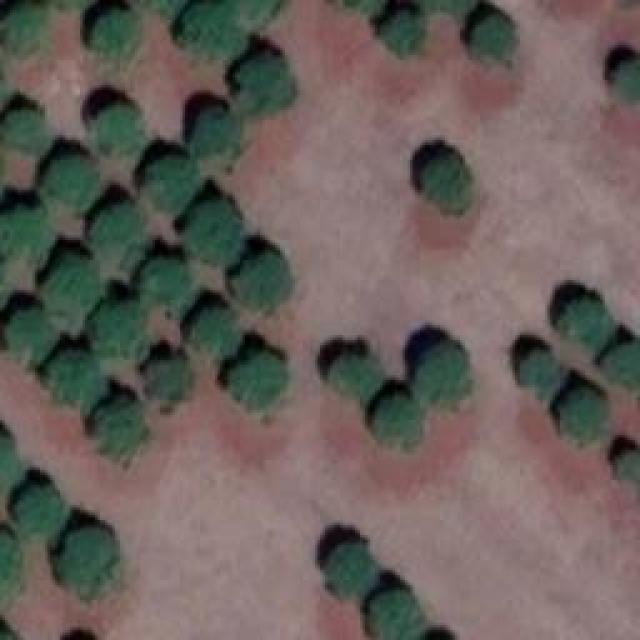Tree: (43, 258, 103, 331), (62, 530, 120, 598), (48, 353, 108, 406), (93, 205, 146, 265), (188, 203, 241, 263), (185, 3, 245, 56), (232, 253, 290, 306), (93, 303, 148, 358), (240, 58, 295, 113), (0, 207, 52, 264), (145, 158, 200, 211), (418, 345, 468, 403), (95, 400, 143, 460), (45, 158, 100, 208), (190, 108, 243, 158), (370, 590, 423, 640), (425, 153, 473, 208), (230, 355, 283, 403), (330, 540, 378, 593), (143, 260, 193, 310), (7, 310, 55, 360), (378, 395, 421, 448), (93, 105, 143, 150), (93, 10, 138, 58), (192, 313, 240, 356), (18, 488, 63, 533), (565, 303, 610, 348), (330, 358, 380, 398), (148, 357, 188, 405), (5, 110, 50, 150), (520, 353, 563, 393), (5, 5, 43, 50), (565, 390, 603, 435), (473, 18, 513, 58), (607, 345, 640, 390), (387, 15, 425, 50), (0, 435, 25, 485), (0, 533, 20, 593), (617, 60, 640, 105), (620, 453, 640, 486)
